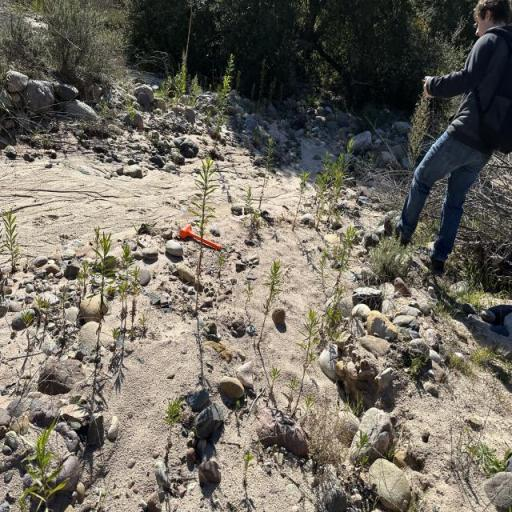mallet: (179, 224, 222, 250)
